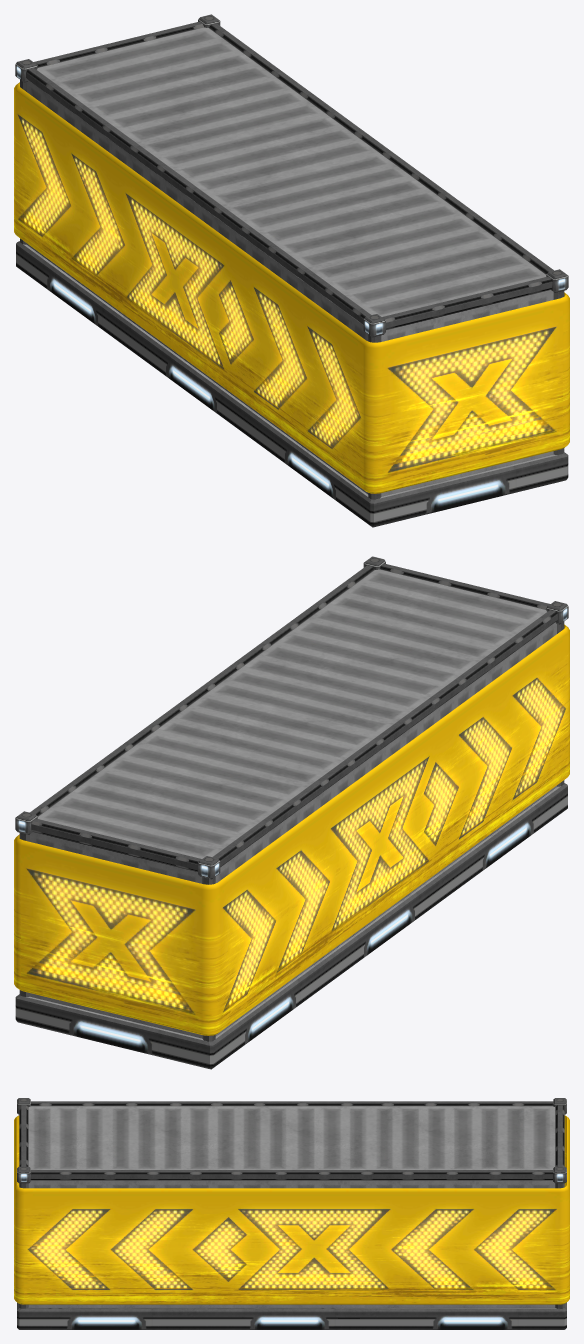
The model's file is obstacle_container_yellow.fbx.
3 renders of one model, top to bottom at view 1: azimuth 30°, elevation 25°; view 2: azimuth 150°, elevation 25°; view 3: azimuth 270°, elevation 25°, orthographic. The views are drawn at different scales.
Visible parts, largest first — view 1: frame, cover; view 2: frame, cover; view 3: cover, frame.
Boxes of the visible parts, x1,y1,x2,y2 form: frame: (15,14,568,527); cover: (14,82,569,493); frame: (15,556,568,1069); cover: (14,624,569,1035); cover: (14,1115,569,1304); frame: (17,1098,566,1329).
Size of the model in its own units: 331 by 319 by 1011.
